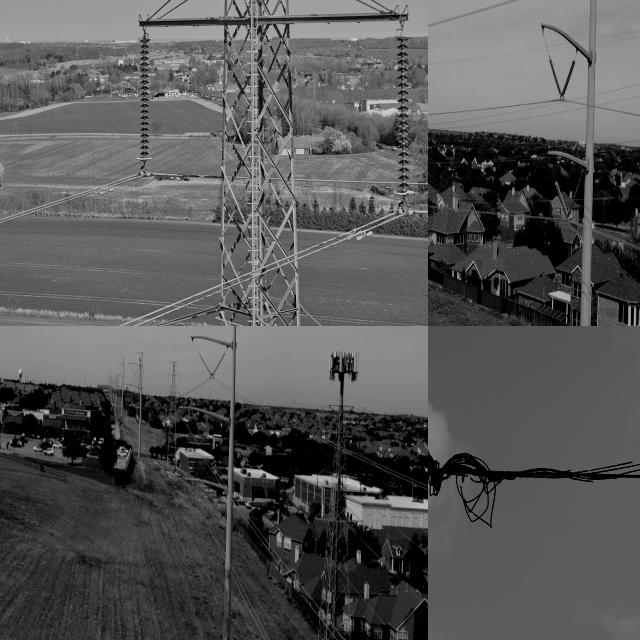杆塔: (134, 0, 414, 326), (312, 399, 358, 640), (162, 352, 184, 478)
正常绝缘子: (394, 35, 414, 199), (136, 30, 156, 169), (554, 53, 580, 117), (559, 171, 585, 232), (547, 165, 572, 226), (544, 45, 567, 106), (209, 351, 227, 380), (197, 350, 214, 379), (185, 422, 202, 450), (197, 423, 213, 450)
电缆破损: (428, 418, 640, 586)
